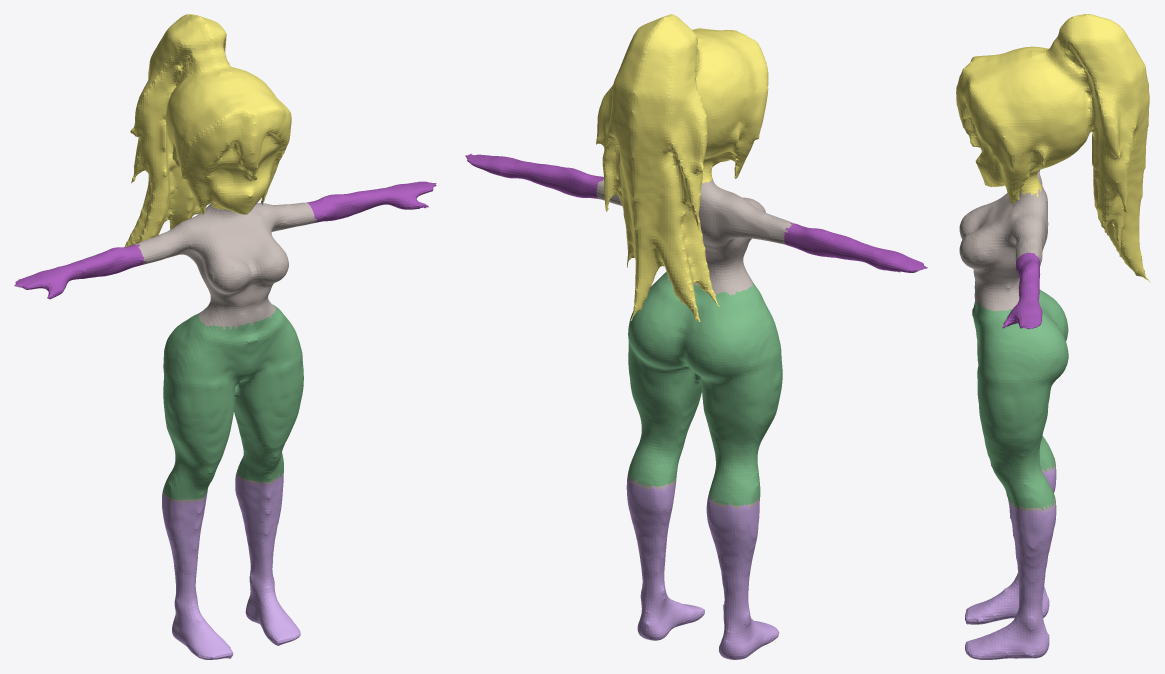
File: character_separated_capped_semantic.glb
The picture shows the model from 3 angles, left to right: view 1: azimuth 30°, elevation 25°; view 2: azimuth 150°, elevation 25°; view 3: azimuth 270°, elevation 25°; orthographic projection. The views are drawn at different scales.
Parts seen in each view (by area): view 1: world; view 2: world; view 3: world.
Boxes of the visible parts, x1,y1,x2,y2 form: world: (14,14,436,659); world: (465,14,927,659); world: (956,14,1150,659).
Size of the model in its own units: 1.46 by 1.96 by 0.5555.
